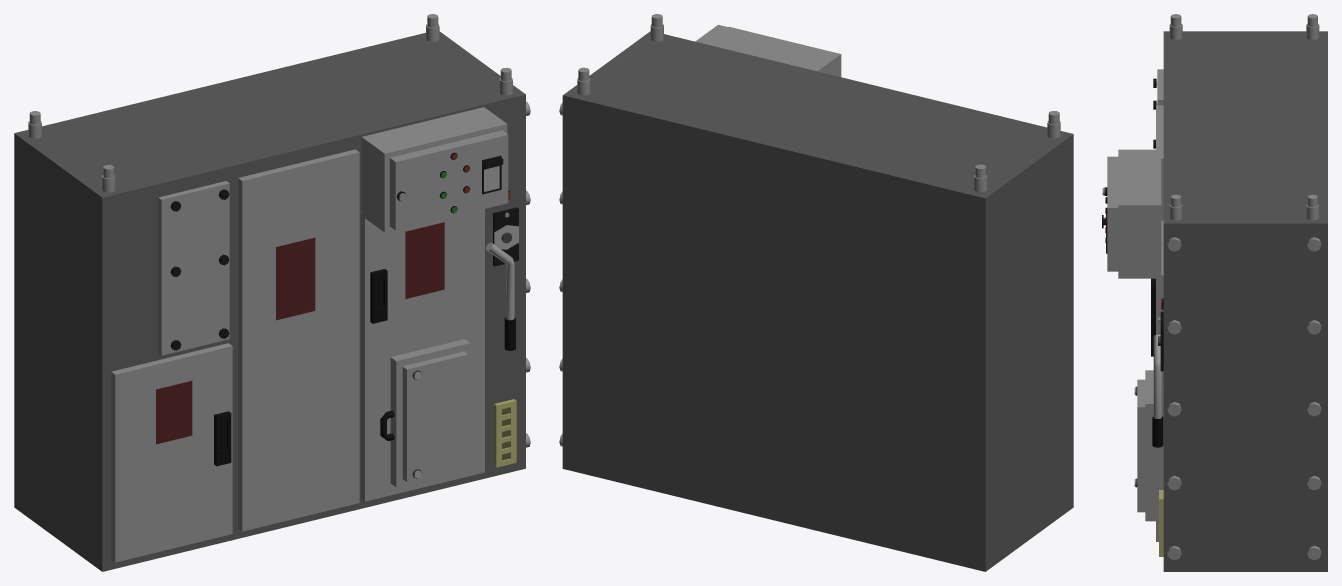
Rendered from PanelEletrico.fbx.
The picture shows the model from 3 angles, left to right: view 1: azimuth 30°, elevation 25°; view 2: azimuth 150°, elevation 25°; view 3: azimuth 270°, elevation 25°; orthographic projection. The views are drawn at different scales.
Visible parts, largest first — view 1: PanelEletrico; view 2: PanelEletrico; view 3: PanelEletrico.
Part boxes in pixels (bbox=[...]): PanelEletrico: bbox=[14, 14, 530, 571]; PanelEletrico: bbox=[559, 14, 1073, 571]; PanelEletrico: bbox=[1102, 14, 1327, 571].
Bounding box in the file's own units: 377 × 332 × 184.
